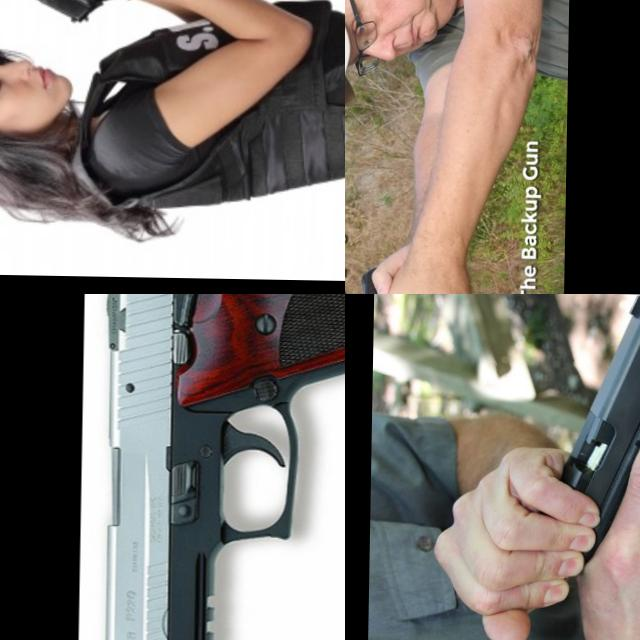handgun: (85, 294, 345, 640), (538, 294, 640, 580), (0, 0, 138, 53), (358, 262, 419, 294)
